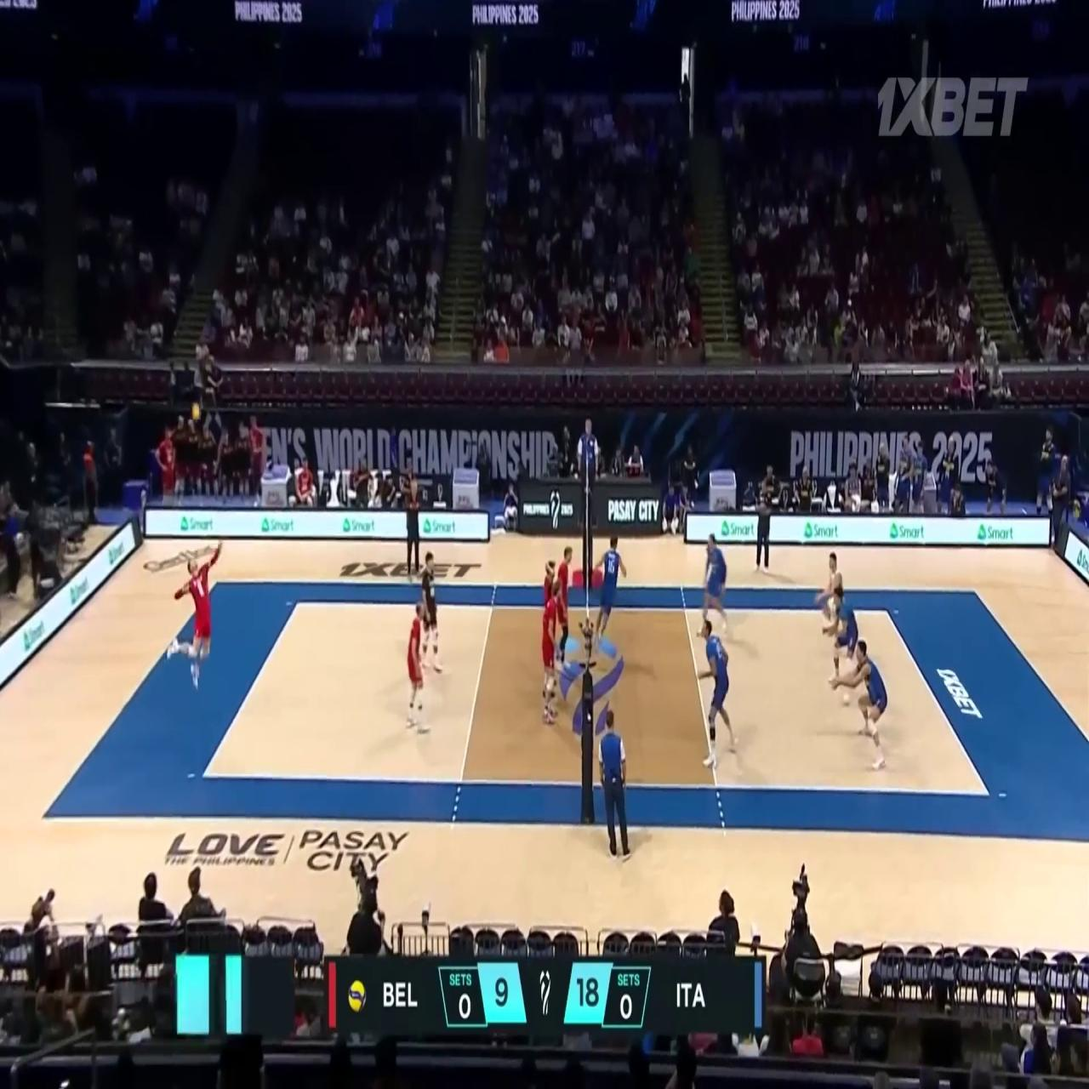ball: (192, 403, 200, 421)
